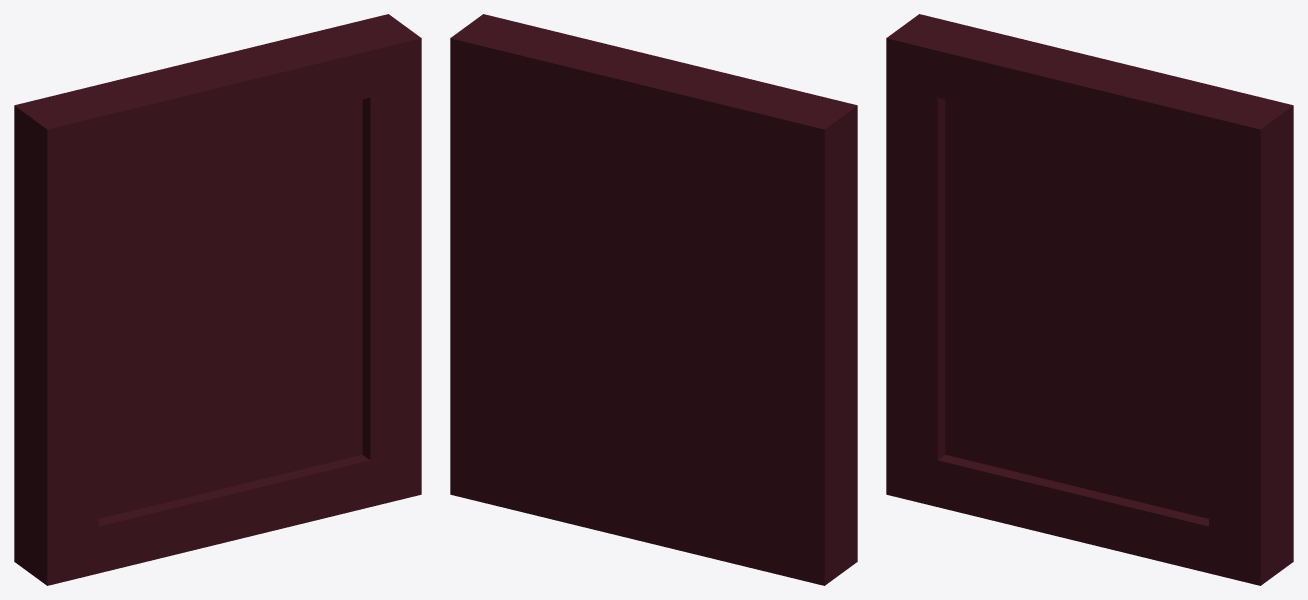
The model's file is Itr_Obj_Frame1_04.FBX.
3 views of the same model, side by side, from view 1: azimuth 30°, elevation 25°; view 2: azimuth 150°, elevation 25°; view 3: azimuth 330°, elevation 25° (orthographic).
Parts seen in each view (by area): view 1: Itr_Obj_Frame1_04; view 2: Itr_Obj_Frame1_04; view 3: Itr_Obj_Frame1_04.
Boxes of the visible parts, x1,y1,x2,y2 form: Itr_Obj_Frame1_04: (14,14,421,585); Itr_Obj_Frame1_04: (450,14,857,585); Itr_Obj_Frame1_04: (886,14,1293,585).
Size of the model in its own units: 15.22 by 17.73 by 2.33.
